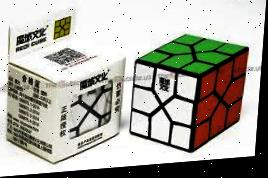cube: (4, 38, 129, 167), (130, 33, 249, 161)
